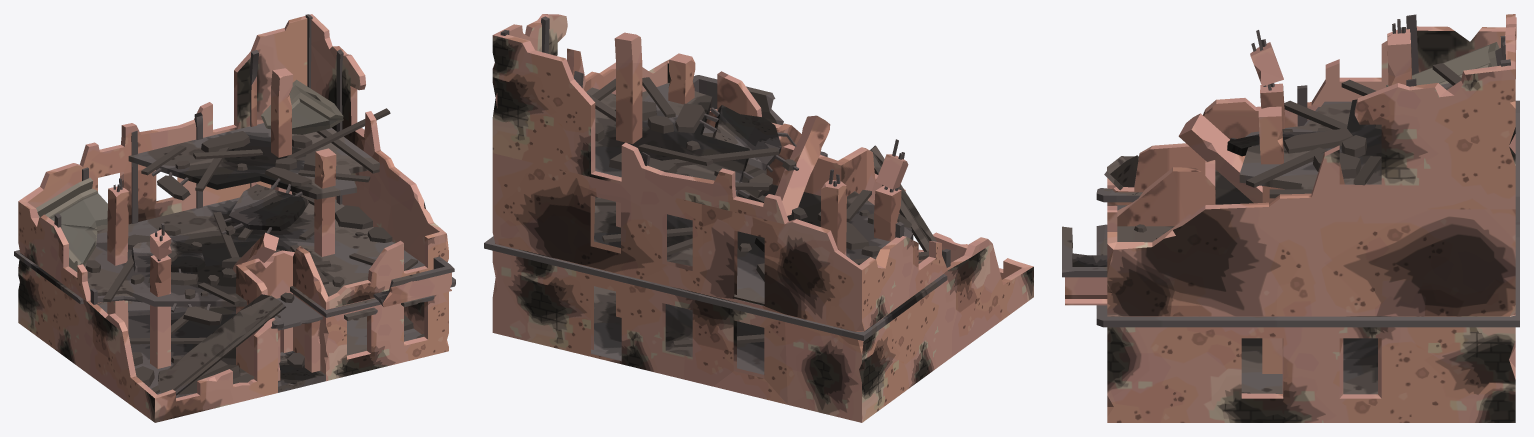
File: SM_Bld_Destroyed_01.fbx
3 views of the same model, side by side, from view 1: azimuth 30°, elevation 25°; view 2: azimuth 150°, elevation 25°; view 3: azimuth 270°, elevation 25° (orthographic). The views are drawn at different scales.
Visible parts, largest first — view 1: SM_Bld_Destroyed_01; view 2: SM_Bld_Destroyed_01; view 3: SM_Bld_Destroyed_01.
Boxes of the visible parts, x1,y1,x2,y2 form: SM_Bld_Destroyed_01: (14, 14, 455, 422); SM_Bld_Destroyed_01: (484, 14, 1033, 422); SM_Bld_Destroyed_01: (1062, 14, 1519, 422).
Bounding box in the file's own units: 1411 × 1005 × 1166.
